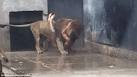lion: (17, 12, 86, 59)
